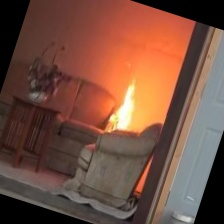fire: (106, 74, 152, 132)
